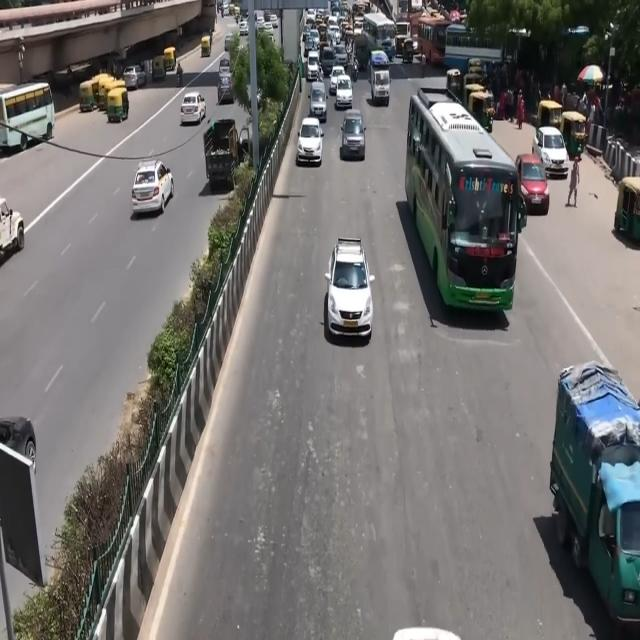auto: (608, 161, 639, 247), (557, 109, 595, 164), (538, 85, 564, 147), (471, 90, 496, 131), (106, 85, 134, 121), (78, 68, 97, 114), (98, 74, 115, 106)
